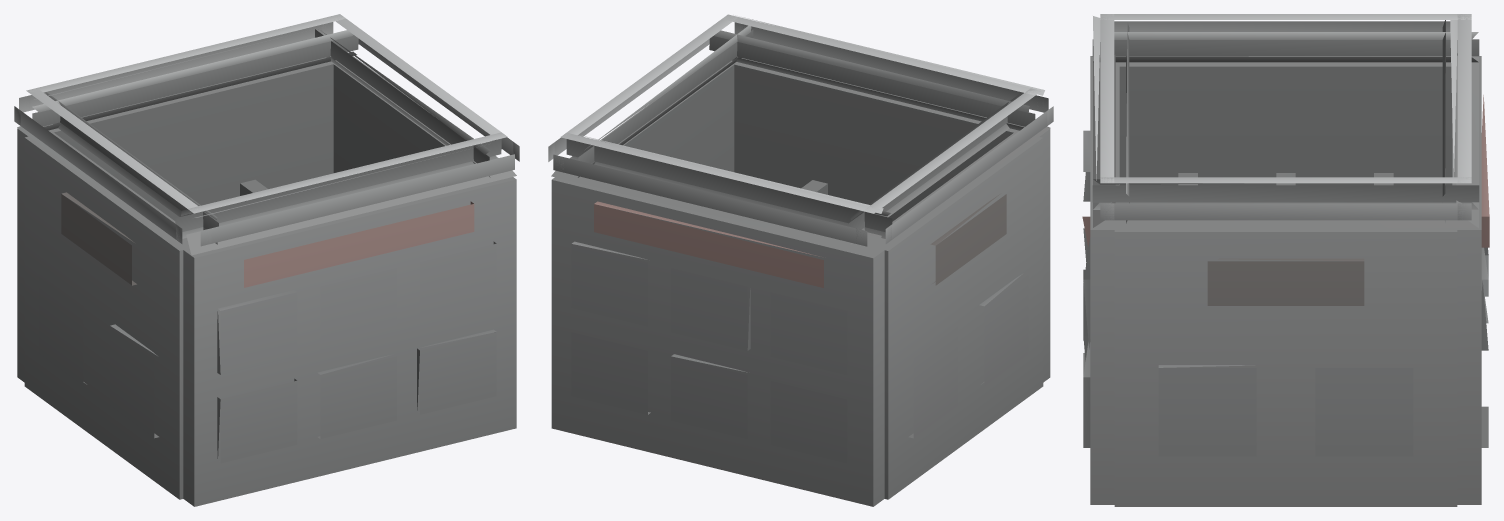
Rendered from crate.lod.glb.
3 views of the same model, side by side, from view 1: azimuth 30°, elevation 25°; view 2: azimuth 150°, elevation 25°; view 3: azimuth 270°, elevation 25° (orthographic). The views are drawn at different scales.
Visible parts, largest first — view 1: crate.001; view 2: crate.001; view 3: crate.001.
Boxes of the visible parts, x1,y1,x2,y2 form: crate.001: [14, 14, 519, 506]; crate.001: [548, 14, 1053, 506]; crate.001: [1082, 14, 1489, 506].
Bounding box in the file's own units: 0.444 × 0.36 × 0.416.
